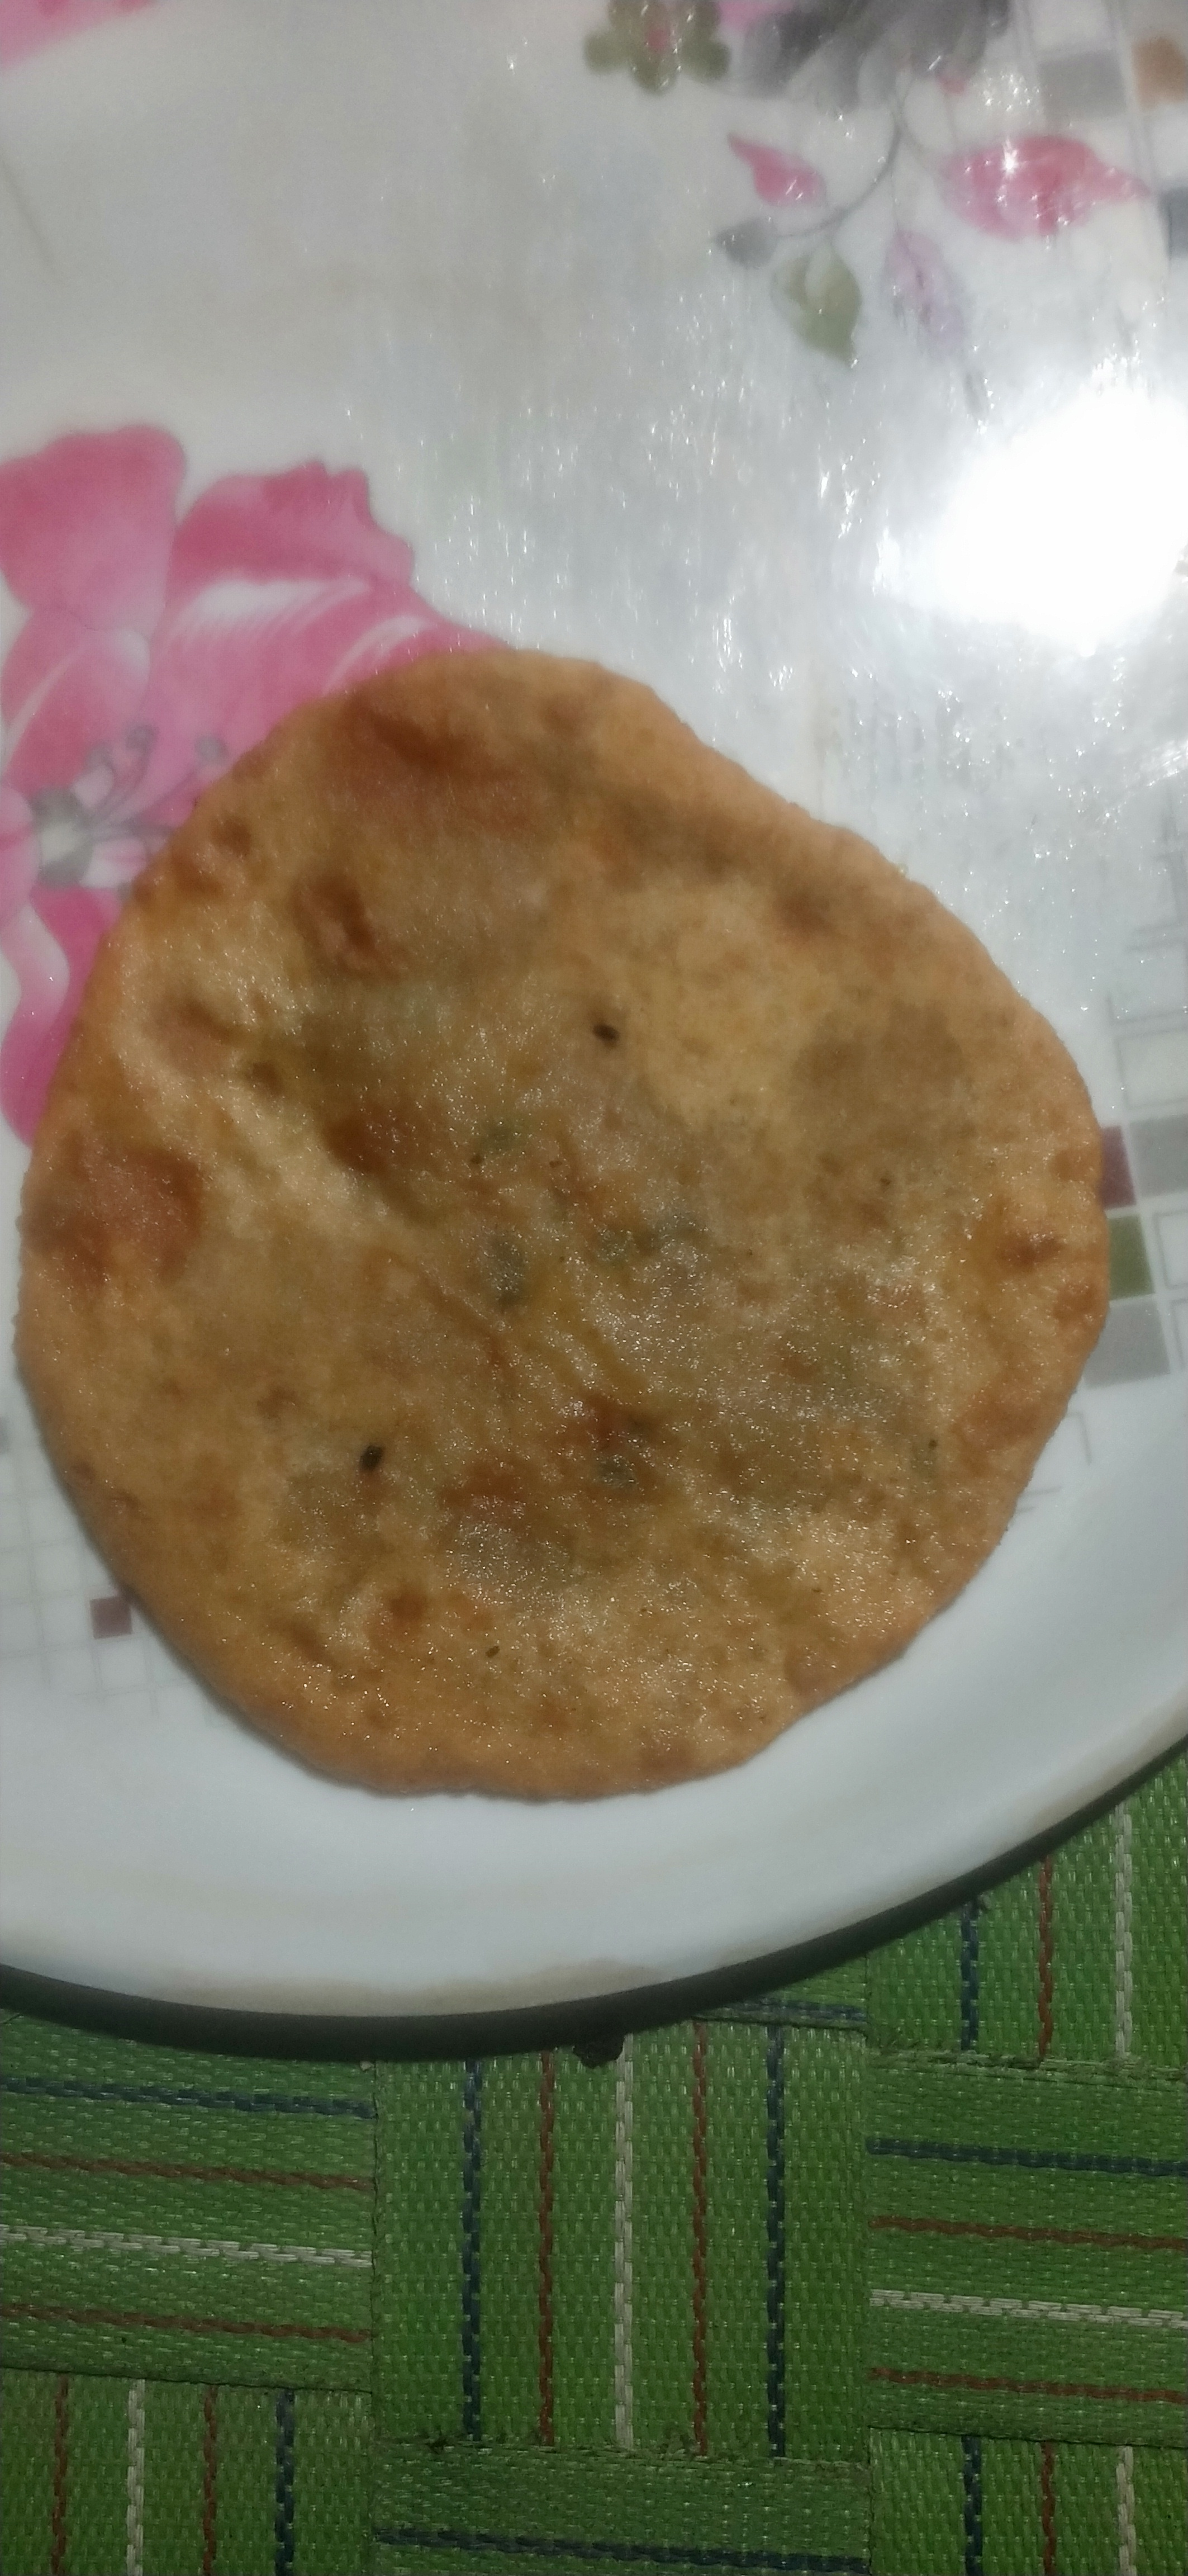food: (5, 619, 1121, 1814)
